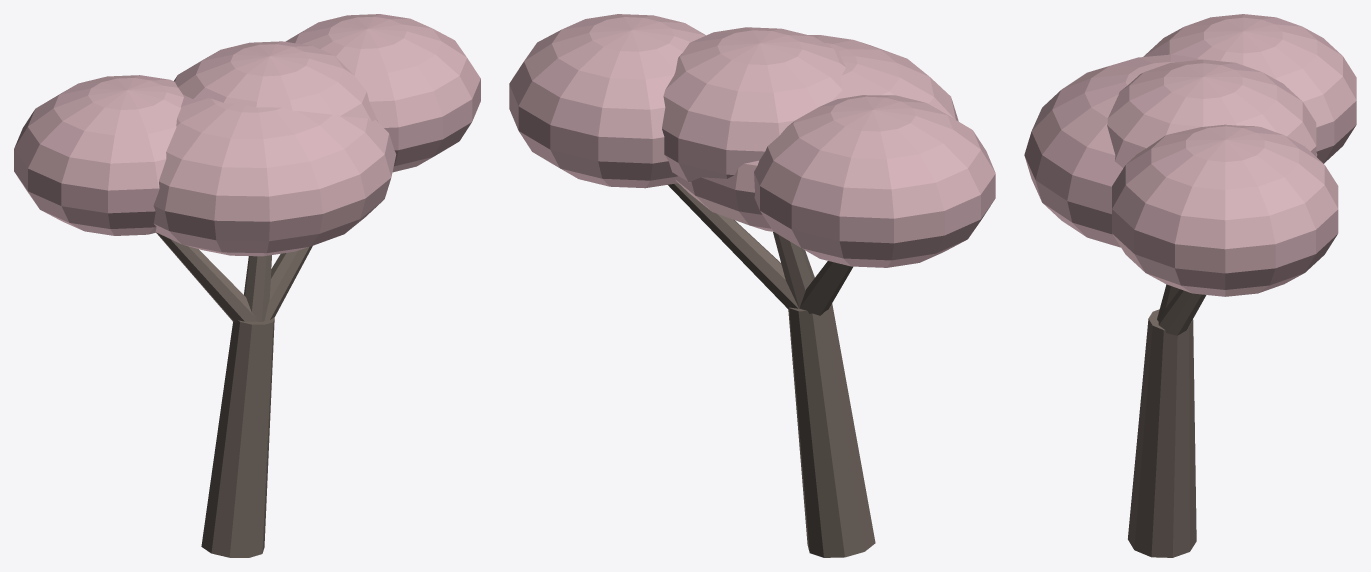
The model's file is Sakura.fbx.
3 views of the same model, side by side, from view 1: azimuth 30°, elevation 25°; view 2: azimuth 150°, elevation 25°; view 3: azimuth 270°, elevation 25° (orthographic). The views are drawn at different scales.
Parts seen in each view (by area): view 1: Sakura; view 2: Sakura; view 3: Sakura.
Part boxes in pixels (box(x1,y1,x2,y2)): Sakura: box(14, 14, 480, 557); Sakura: box(509, 14, 995, 557); Sakura: box(1024, 14, 1356, 557).
Size of the model in its own units: 307 by 318 by 193.
